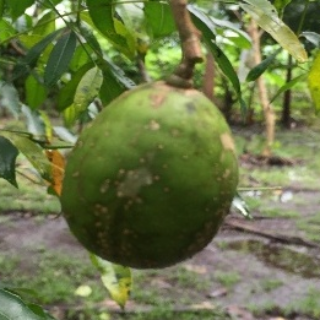coc: (61, 82, 238, 268)
